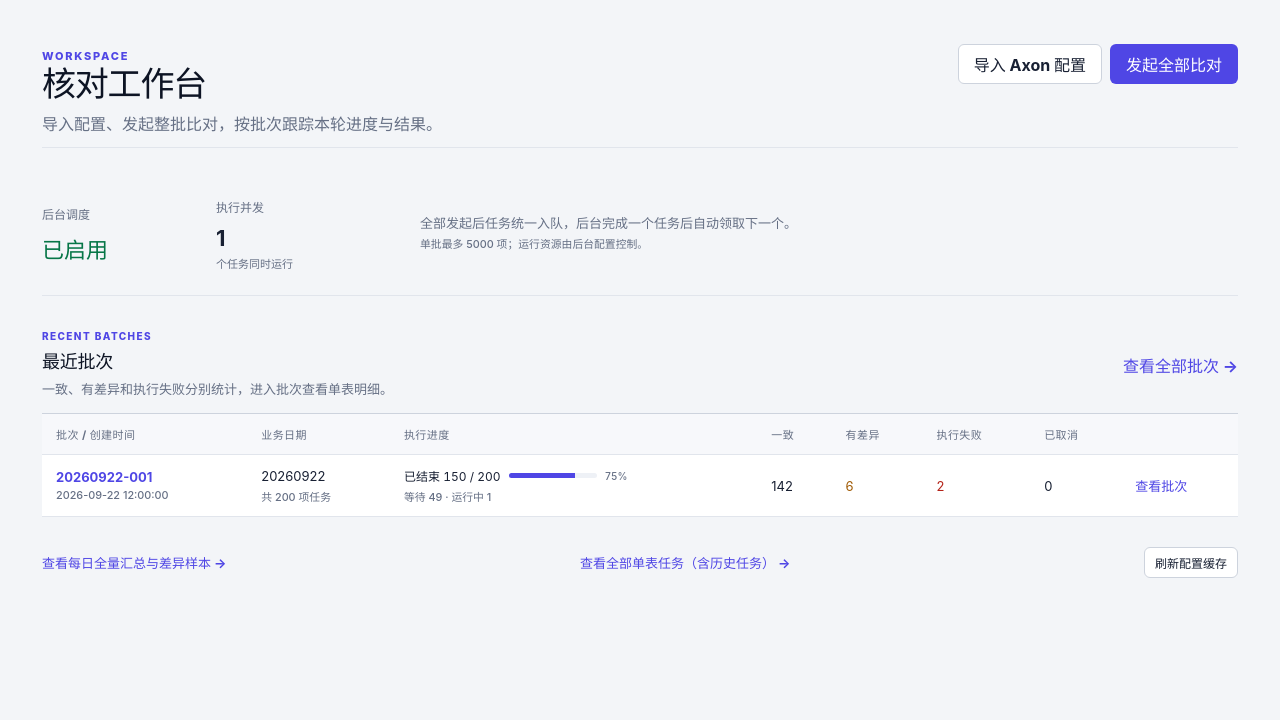
refreshes the configuration cache once and disables the action while loading
Later steps or results of the test are not shown.
Click the button "刷新配置缓存".
click(1191, 563)  # box top-left (1144, 547), bottom-right (1238, 578)
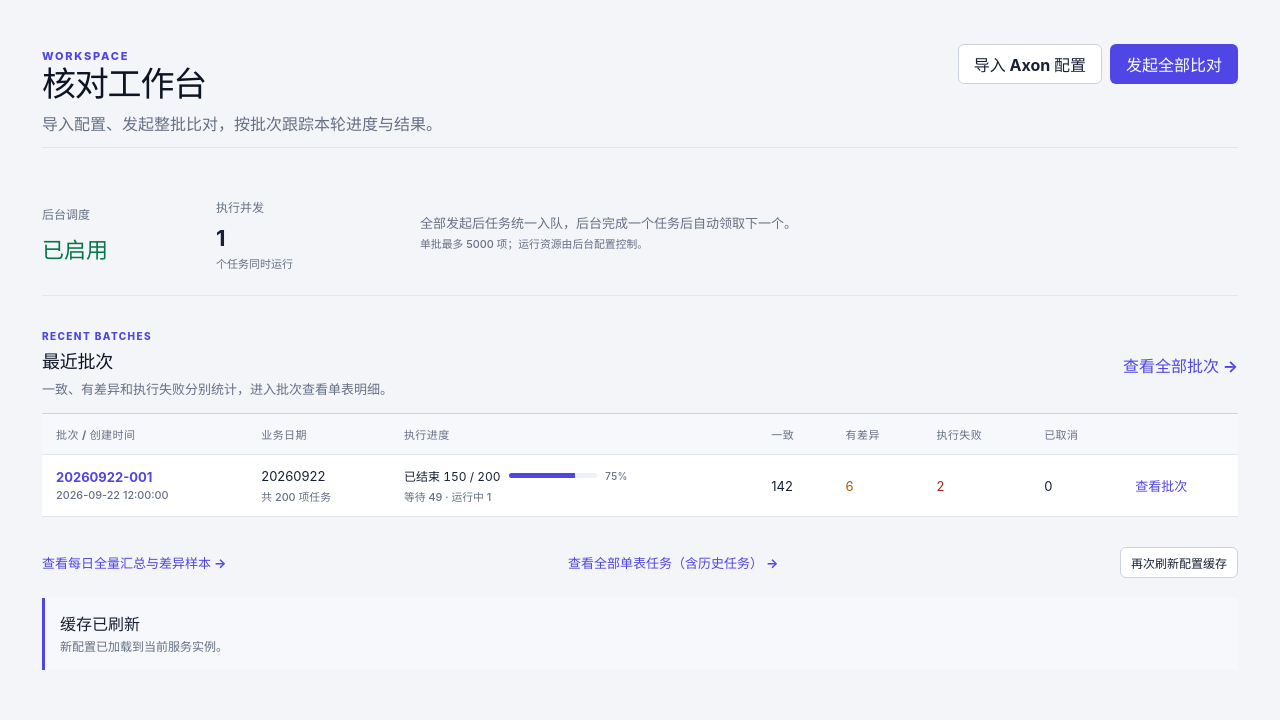
Expected: the text "缓存已刷新" is shown, top-left (60, 614), bottom-right (140, 634)
